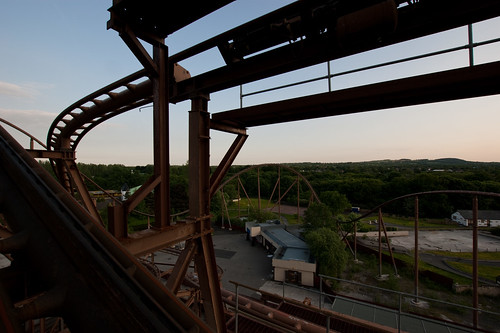building: (251, 219, 322, 286), (451, 205, 500, 231)
sky: (1, 1, 488, 159)
vegetation: (67, 164, 491, 202)
